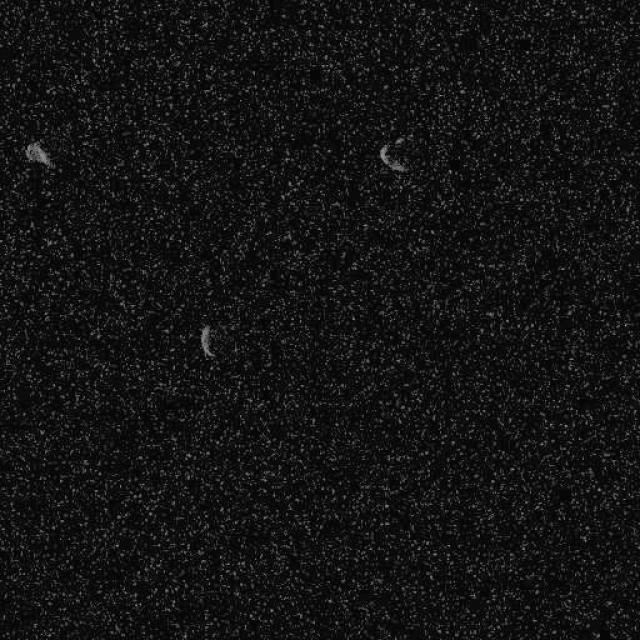D2: (378, 141, 408, 174), (22, 140, 54, 169), (199, 322, 216, 360)
